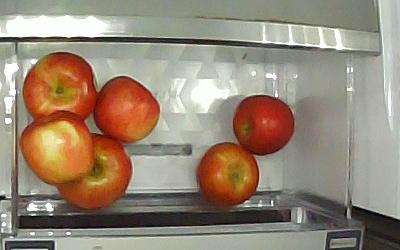apple: (57, 133, 133, 210), (20, 110, 94, 186), (24, 53, 98, 127), (99, 76, 161, 147), (196, 141, 260, 208), (232, 93, 293, 157)
